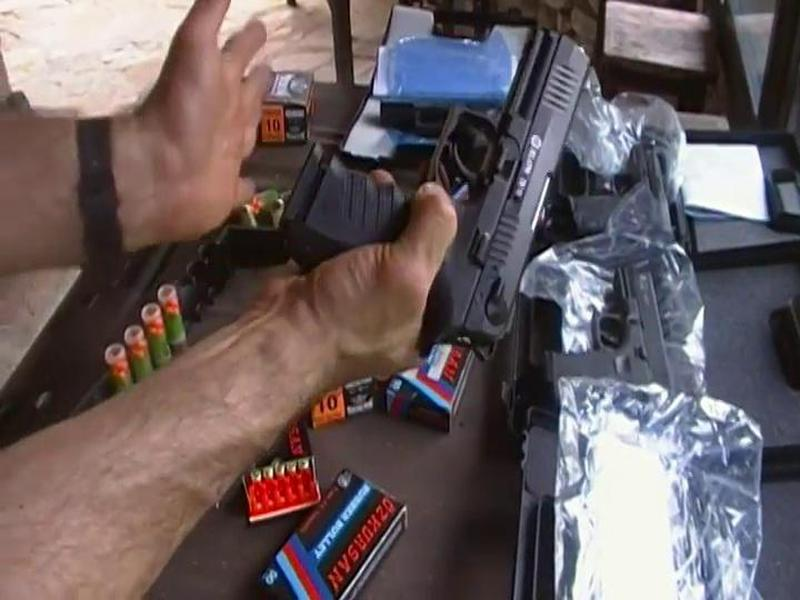Pistola: (300, 7, 578, 374)
